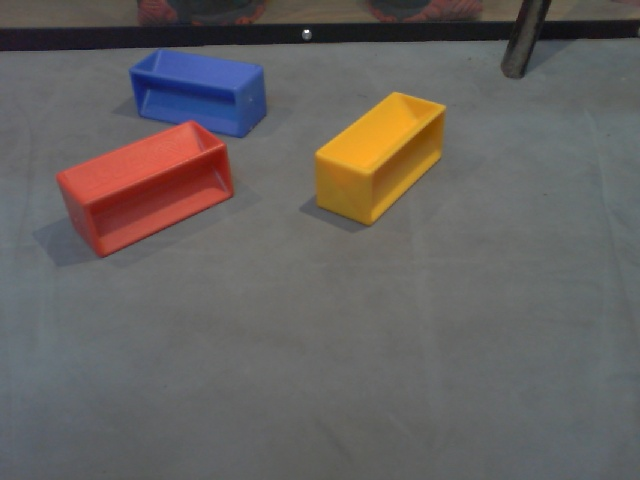BlueSample: (126, 47, 272, 138)
RedSample: (54, 117, 235, 259)
YellowSample: (311, 88, 447, 230)
